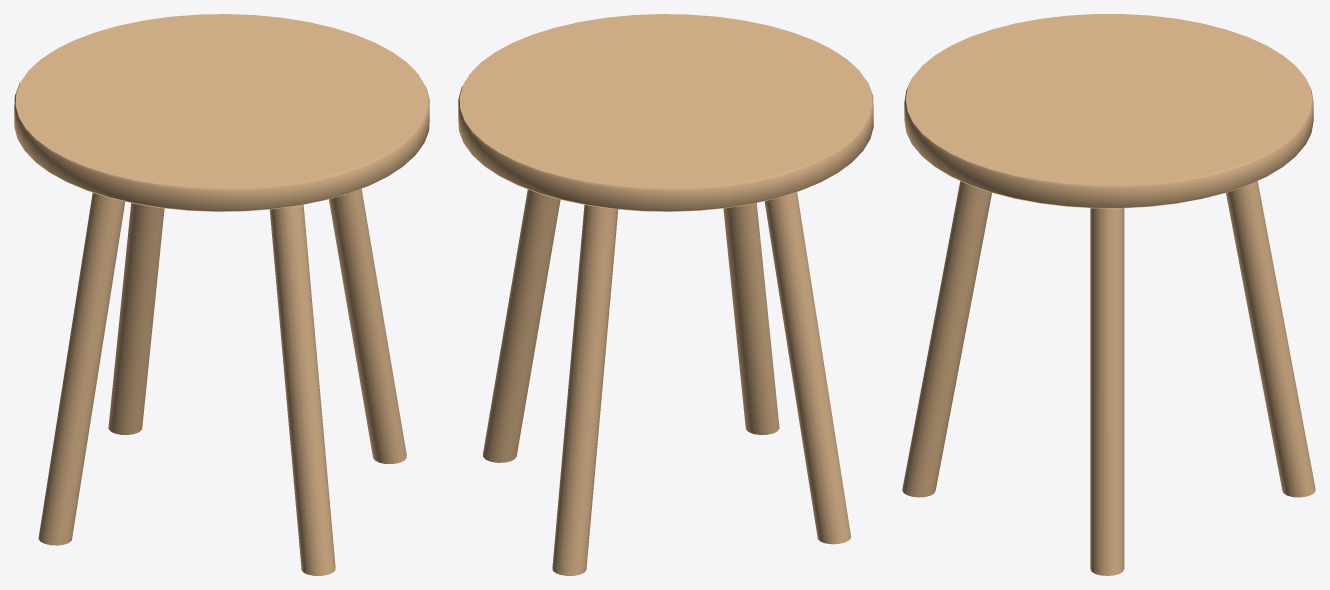
The model's file is MSH_Ludoteca_Mesa.fbx.
The picture shows the model from 3 angles, left to right: view 1: azimuth 30°, elevation 25°; view 2: azimuth 150°, elevation 25°; view 3: azimuth 270°, elevation 25°; orthographic projection.
Visible parts, largest first — view 1: MSH_Ludoteca_Mesa; view 2: MSH_Ludoteca_Mesa; view 3: MSH_Ludoteca_Mesa.
Part boxes in pixels (left/top/right/bottom): MSH_Ludoteca_Mesa: left=14, top=14, right=429, bottom=575; MSH_Ludoteca_Mesa: left=458, top=14, right=873, bottom=575; MSH_Ludoteca_Mesa: left=902, top=14, right=1315, bottom=575.
Size of the model in its own units: 56.33 by 58.77 by 56.33.
